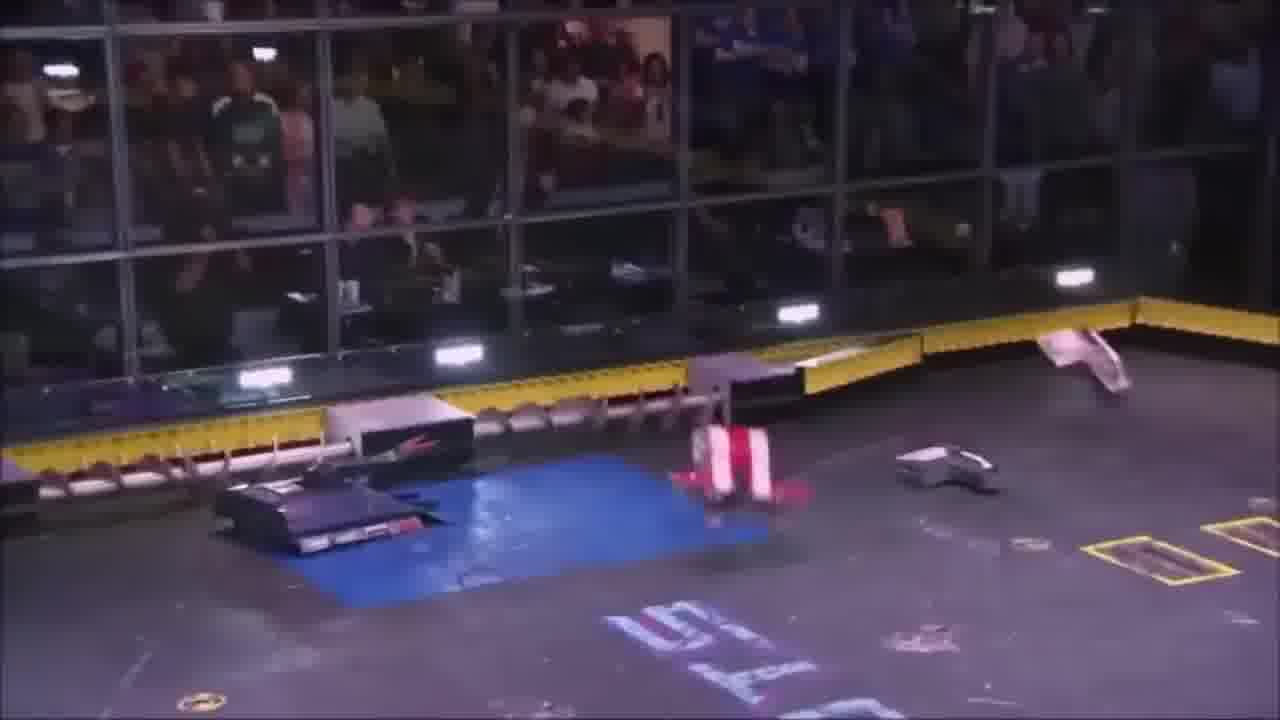combatbot: (218, 467, 440, 554), (677, 427, 812, 515), (1034, 321, 1137, 408), (894, 442, 1006, 498)
